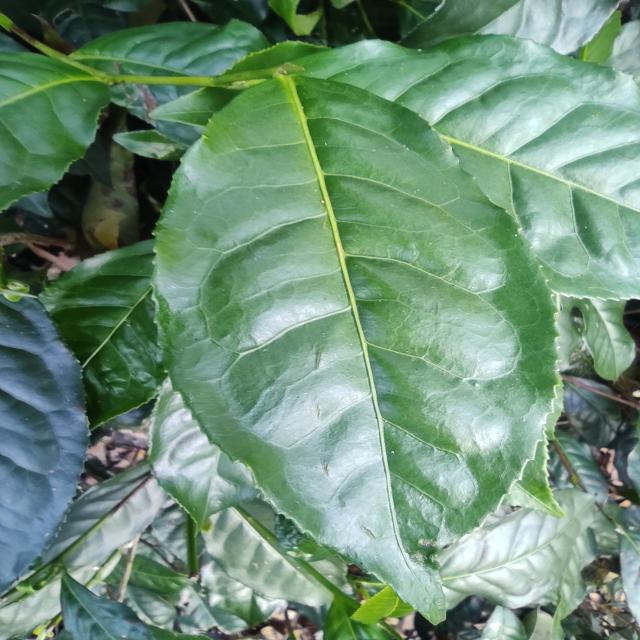Category D 7+ days, Not for Tea: (145, 63, 584, 626)
